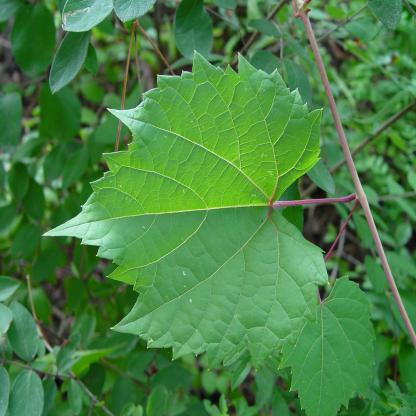grape leaf: (32, 59, 329, 371), (269, 275, 379, 415)
